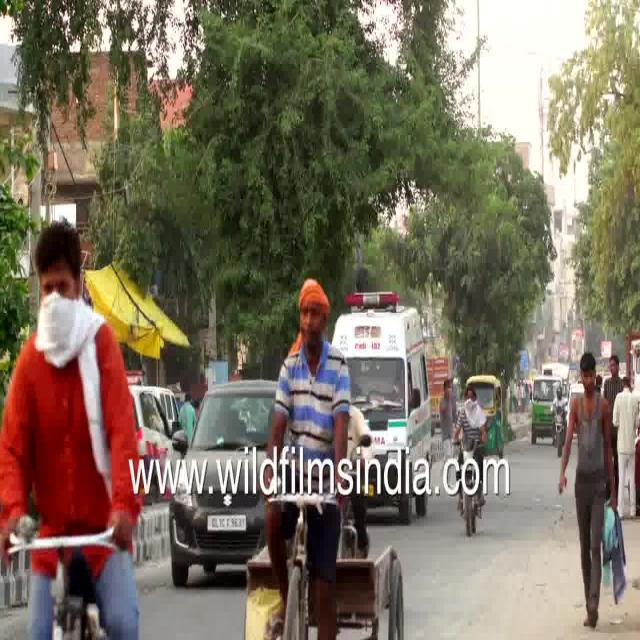ambulance: (336, 282, 434, 512)
